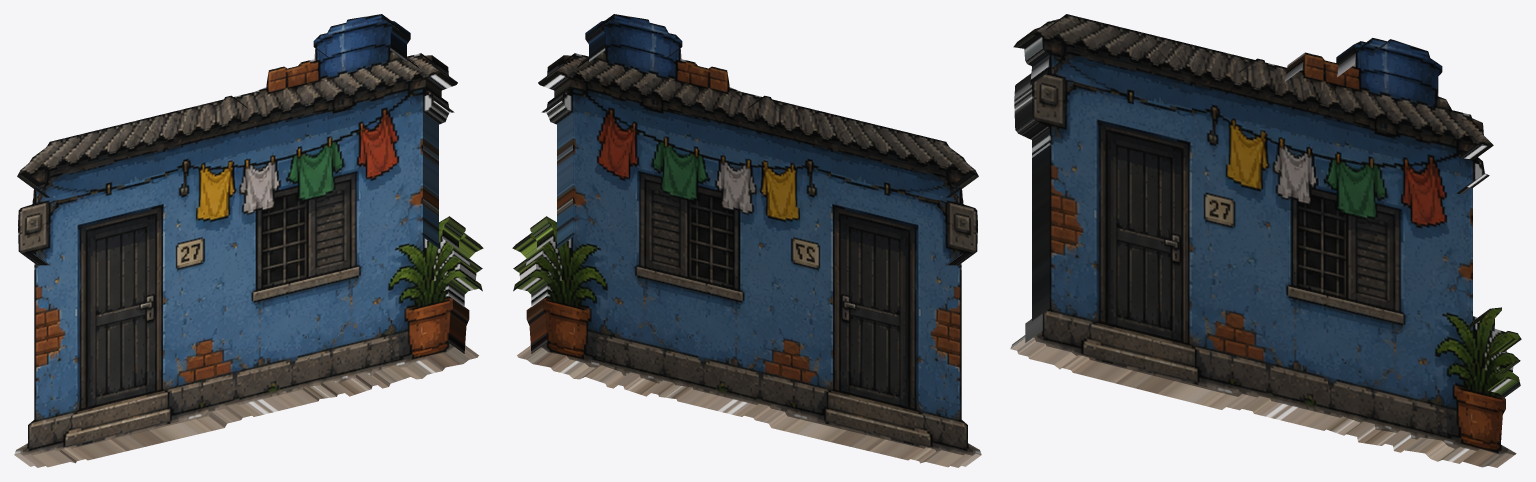
Rendered from props_01.glb.
3 renders of one model, left to right at view 1: azimuth 30°, elevation 25°; view 2: azimuth 150°, elevation 25°; view 3: azimuth 330°, elevation 25°, orthographic. The views are drawn at different scales.
Parts seen in each view (by area): view 1: world; view 2: world; view 3: world.
Part boxes in pixels (x1,y1,x2,y2): world: [14, 14, 483, 467]; world: [512, 14, 981, 467]; world: [1010, 14, 1521, 467].
Bounding box in the file's own units: 4.97 × 3.8 × 0.3048.
1 material, 1 textured.
